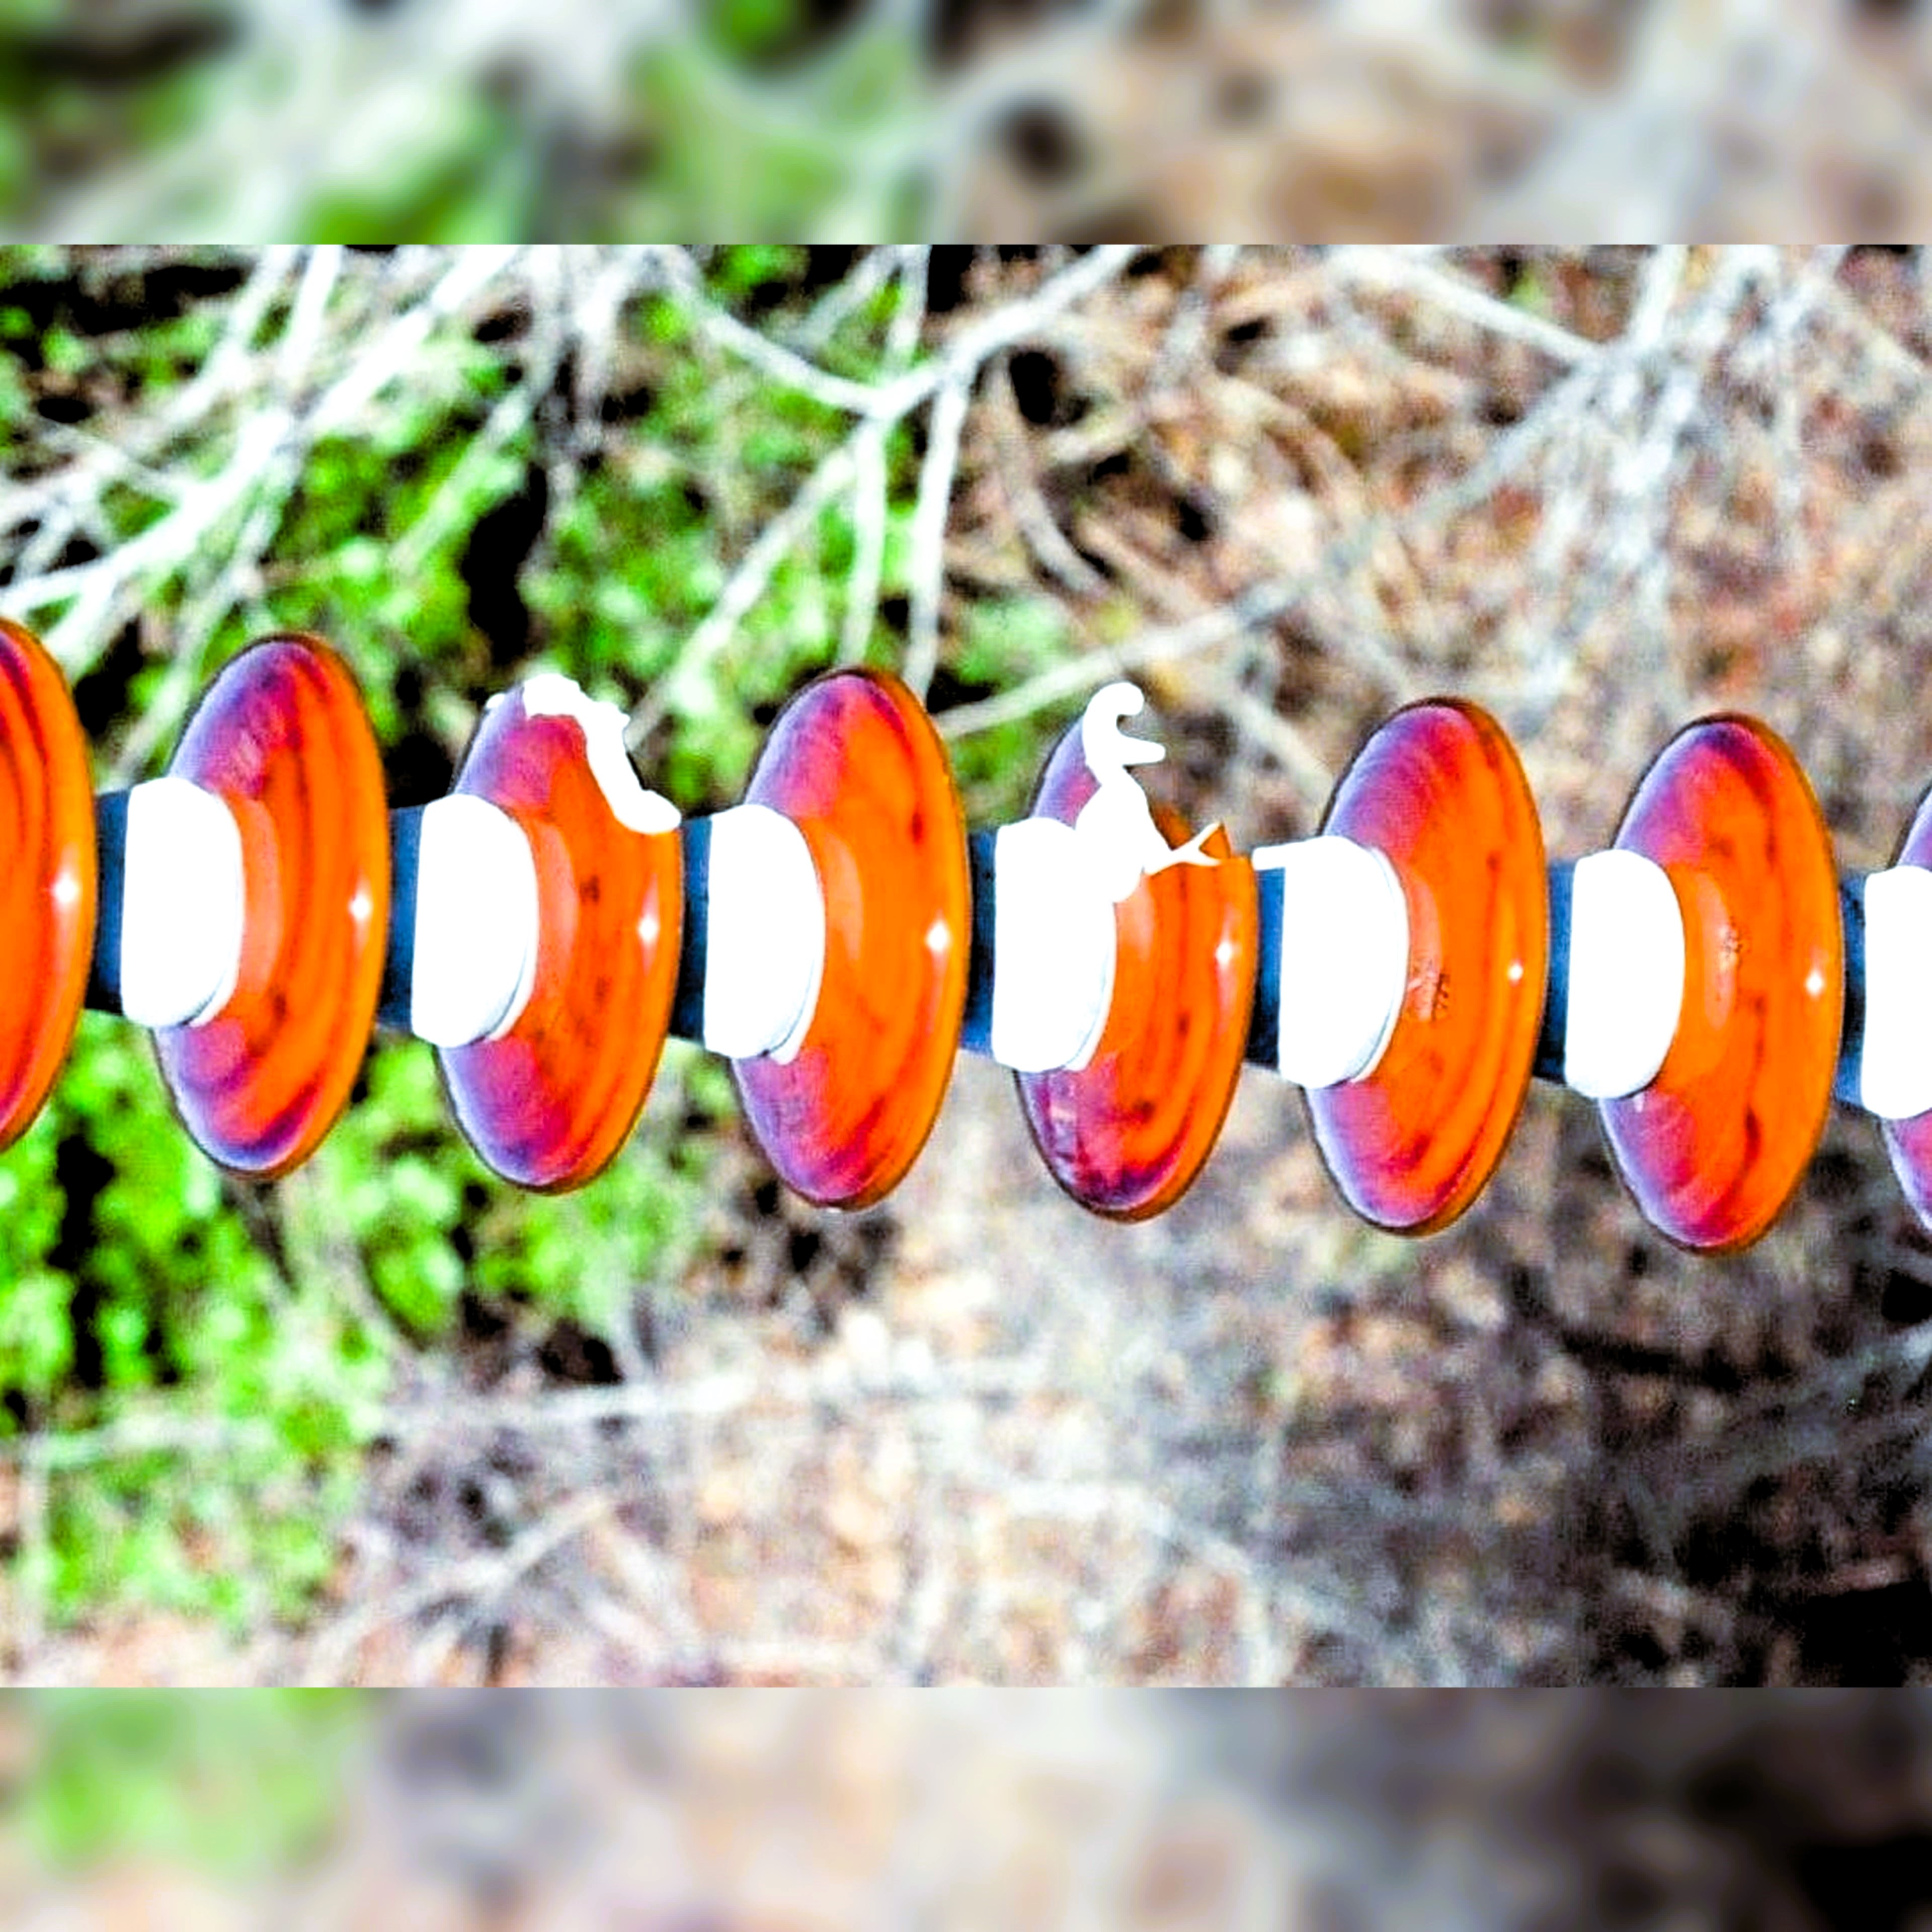insulator breakage: (994, 663, 1272, 1224), (430, 648, 692, 1203)
